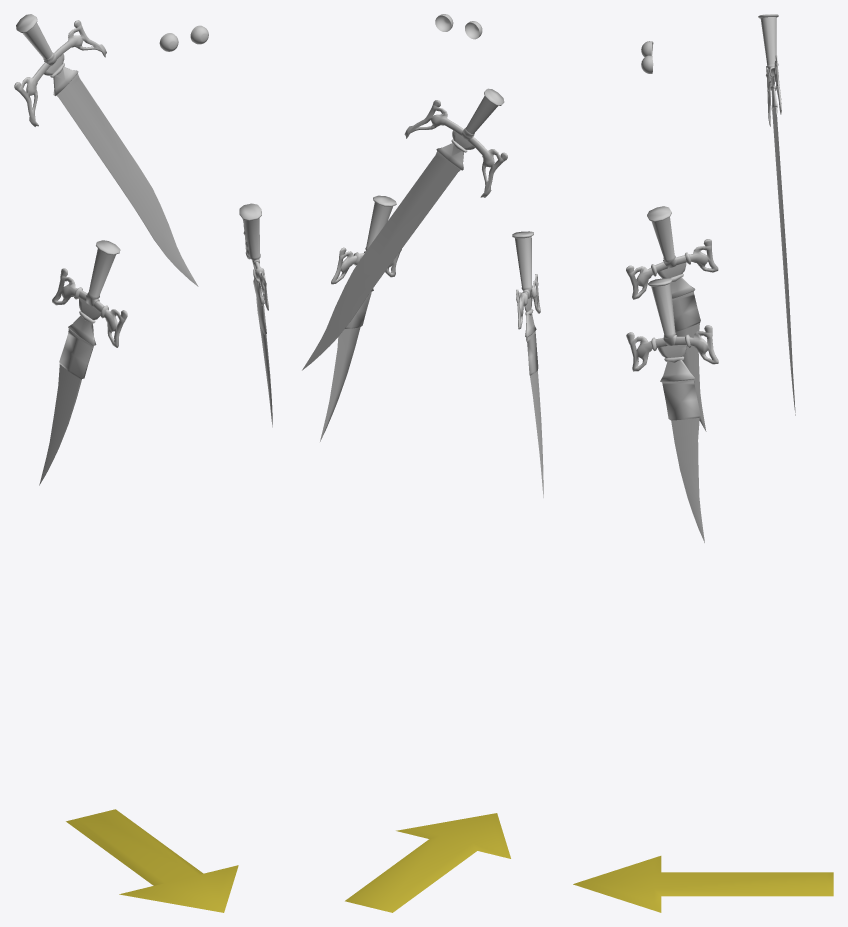
File: prop_boar_rig.glb
The picture shows the model from 3 angles, left to right: view 1: azimuth 30°, elevation 25°; view 2: azimuth 150°, elevation 25°; view 3: azimuth 270°, elevation 25°; orthographic projection. The views are drawn at different scales.
Parts seen in each view (by area): view 1: Broadsword, Root, Dagger_Right, Dagger_Left; view 2: Broadsword, Root, Dagger_Left, Dagger_Right; view 3: Root, Dagger_Left, Dagger_Right, Broadsword.
Boxes of the visible parts, x1,y1,x2,y2 form: Broadsword: [14, 14, 198, 286]; Root: [66, 809, 238, 912]; Dagger_Right: [39, 240, 127, 485]; Dagger_Left: [239, 203, 272, 427]; Broadsword: [302, 88, 507, 370]; Root: [345, 813, 510, 912]; Dagger_Left: [320, 195, 401, 441]; Dagger_Right: [512, 231, 543, 497]; Root: [573, 856, 833, 912]; Dagger_Left: [626, 278, 718, 542]; Dagger_Right: [626, 206, 718, 431]; Broadsword: [758, 14, 795, 415].
Size of the model in its own units: 0.5252 by 1.84 by 0.5208.
